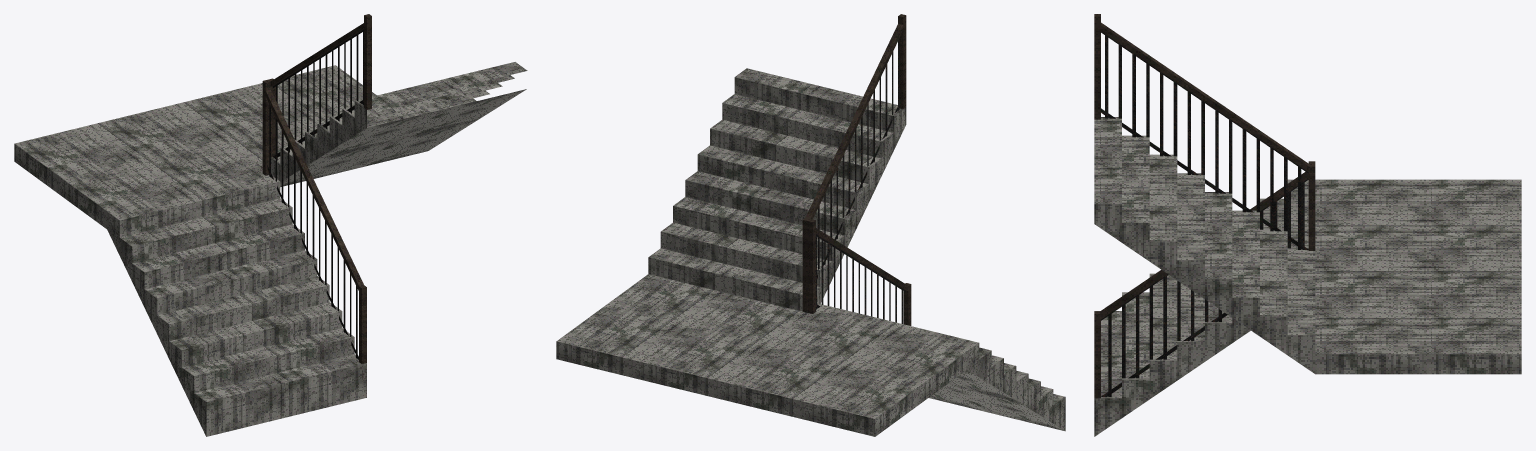
The model's file is stair_u_core.gltf.
The picture shows the model from 3 angles, left to right: view 1: azimuth 30°, elevation 25°; view 2: azimuth 150°, elevation 25°; view 3: azimuth 270°, elevation 25°; orthographic projection. The views are drawn at different scales.
Parts seen in each view (by area): view 1: stair_u_core; view 2: stair_u_core; view 3: stair_u_core.
Boxes of the visible parts, x1,y1,x2,y2 form: stair_u_core: (14, 14, 527, 436); stair_u_core: (556, 14, 1065, 436); stair_u_core: (1094, 14, 1521, 436).
Size of what is drawn, in the model's own units: 3.74 by 4.23 by 3.87.
Materials: 4 (4 with a texture image).
